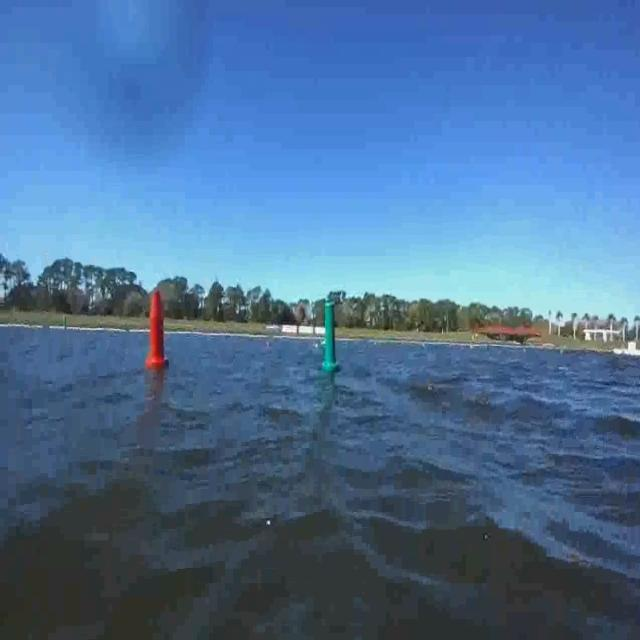green-column-buoy: (320, 302, 340, 374)
red-column-buoy: (147, 291, 170, 370)
